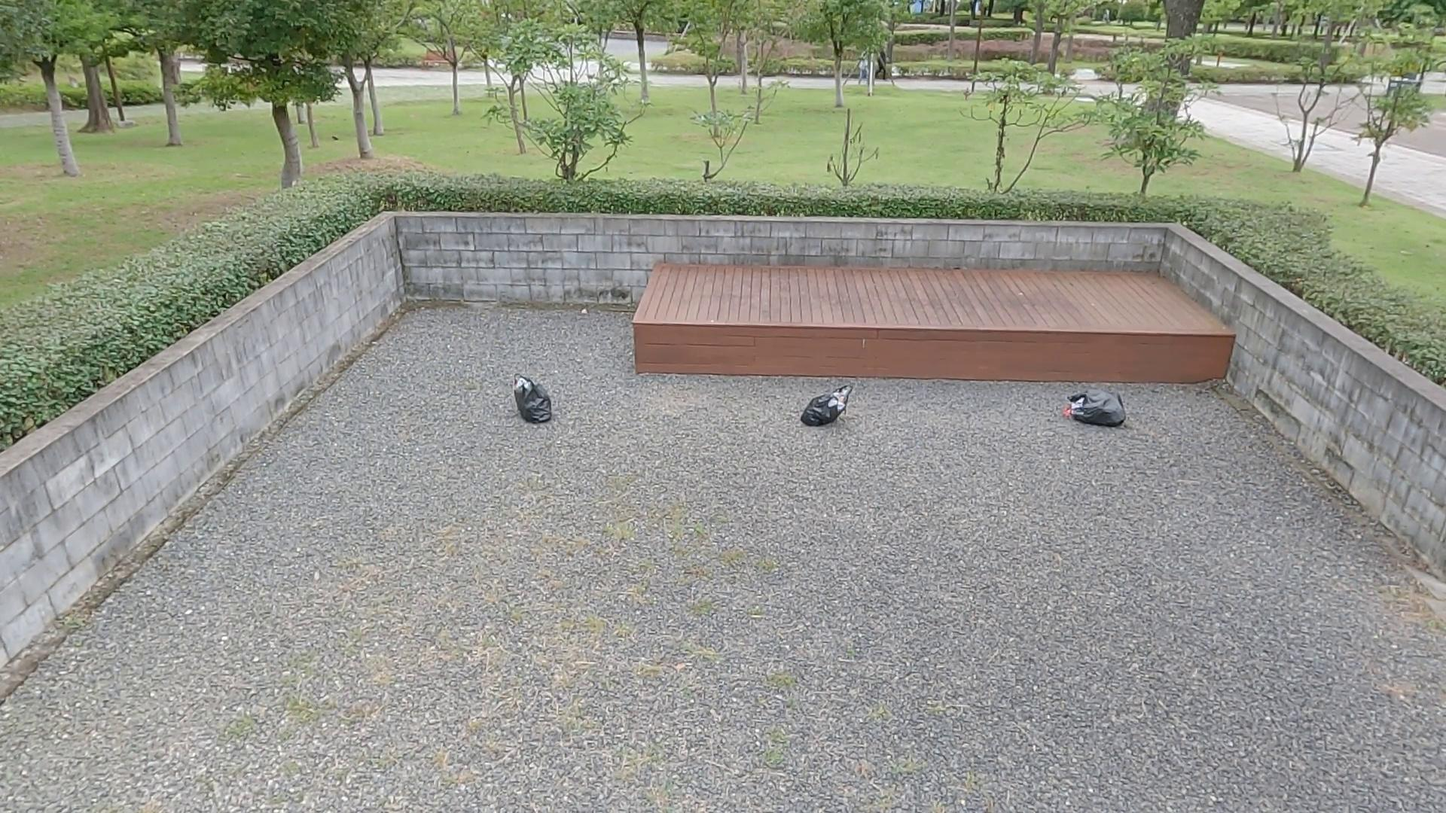trash: (1063, 386, 1134, 434), (507, 373, 559, 431), (801, 379, 855, 428)
